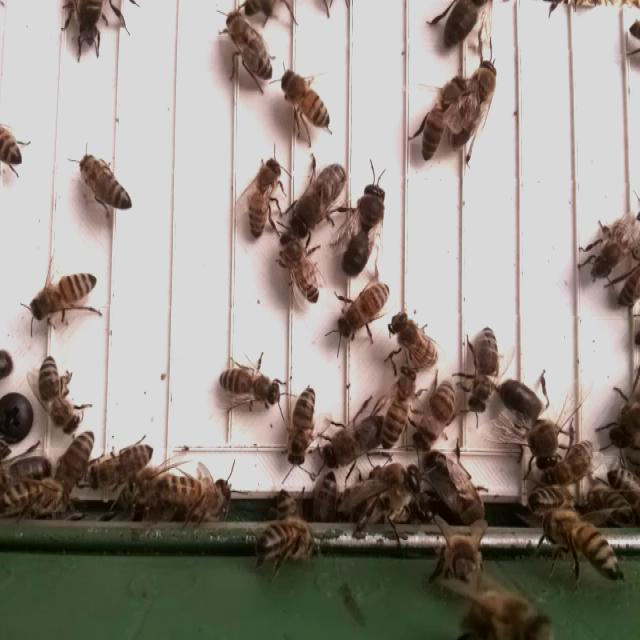Drone: (498, 377, 561, 474), (340, 182, 390, 279), (290, 159, 350, 239), (320, 410, 390, 471)
Worker: (418, 74, 468, 162), (450, 57, 497, 148), (221, 13, 277, 83), (378, 365, 418, 454), (32, 268, 99, 320), (463, 323, 500, 416), (279, 71, 334, 133), (36, 357, 80, 433), (77, 154, 134, 212), (416, 376, 457, 455), (247, 154, 284, 241), (52, 429, 98, 498), (594, 207, 640, 275), (91, 440, 155, 488), (388, 312, 440, 371), (280, 234, 322, 307), (284, 383, 318, 472), (339, 282, 391, 339), (218, 367, 283, 410)
